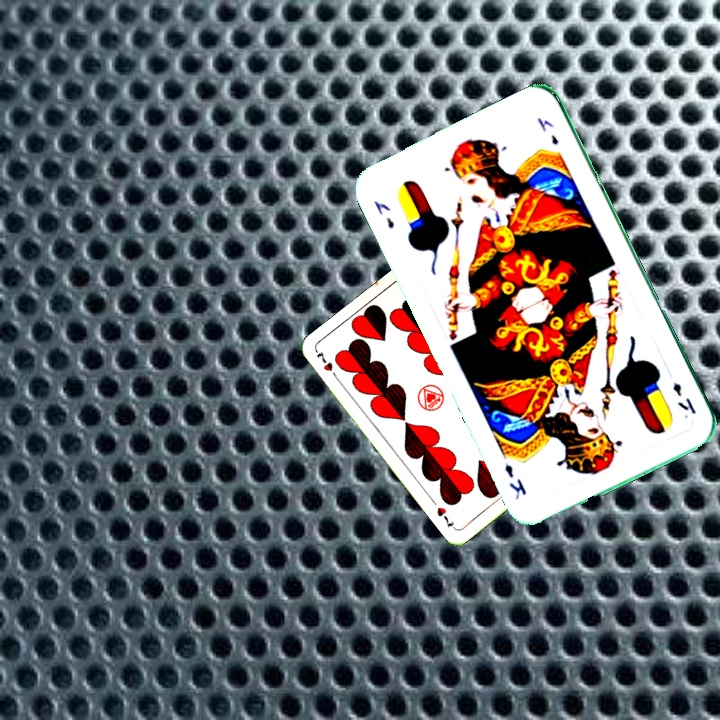EK: (668, 378, 699, 417), (370, 196, 397, 232)
H7: (312, 347, 341, 382)
